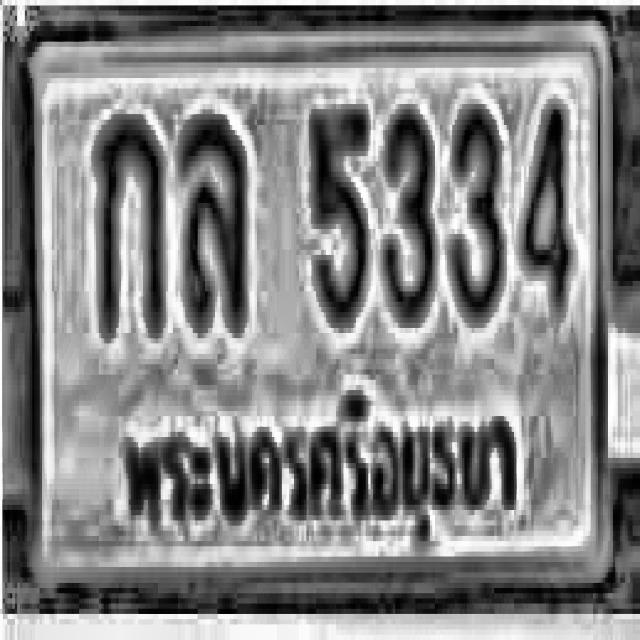license-plate: (25, 12, 622, 611)
